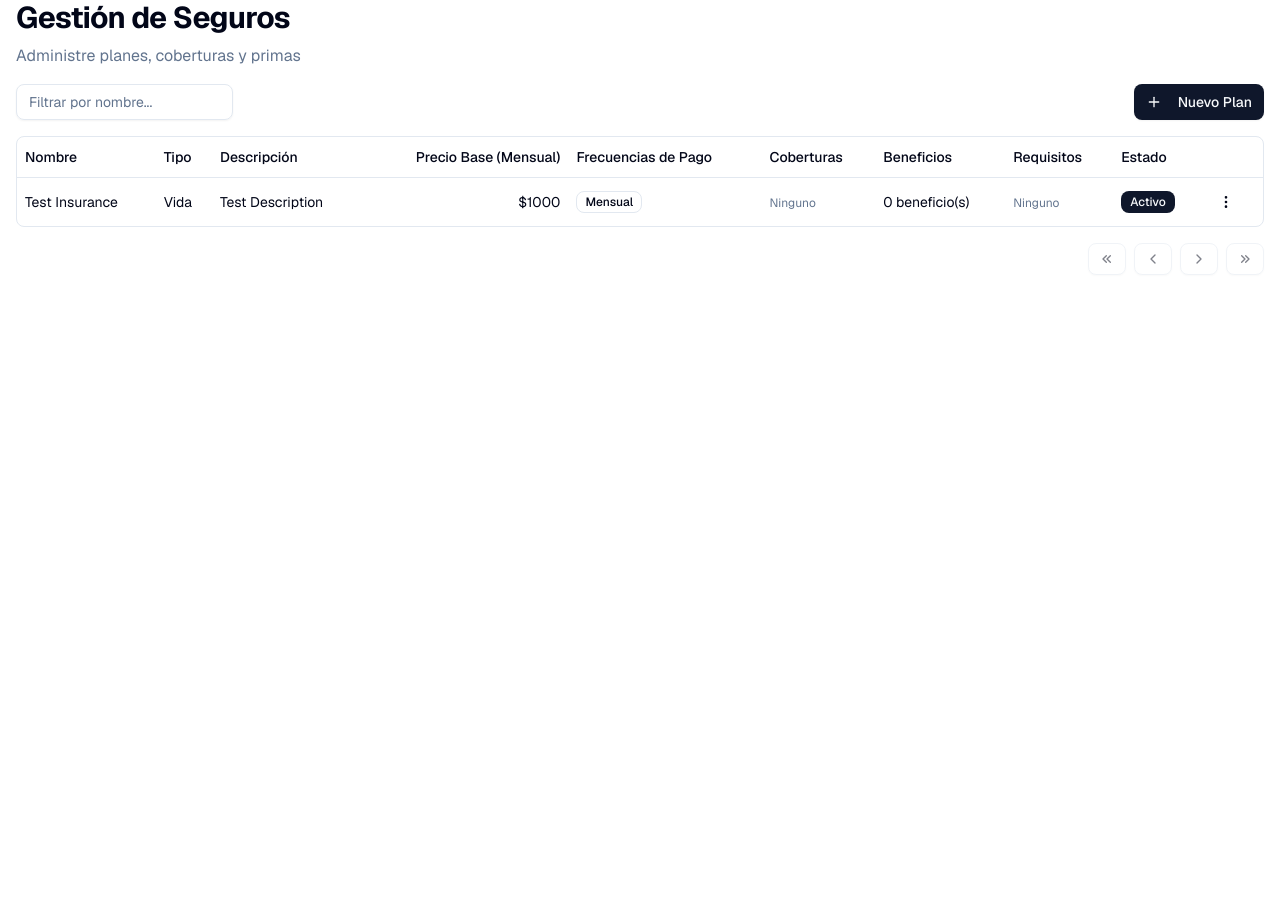
Test: Insurance Management Flow Integration Tests › Form Validation Tests › should validate price is a positive number
The image size is (1280, 900).
# Hacer clic en el botón de crear nuevo seguro
Click the button "Nuevo Plan". click: (1199, 102)
box: [1134,84,1264,120]
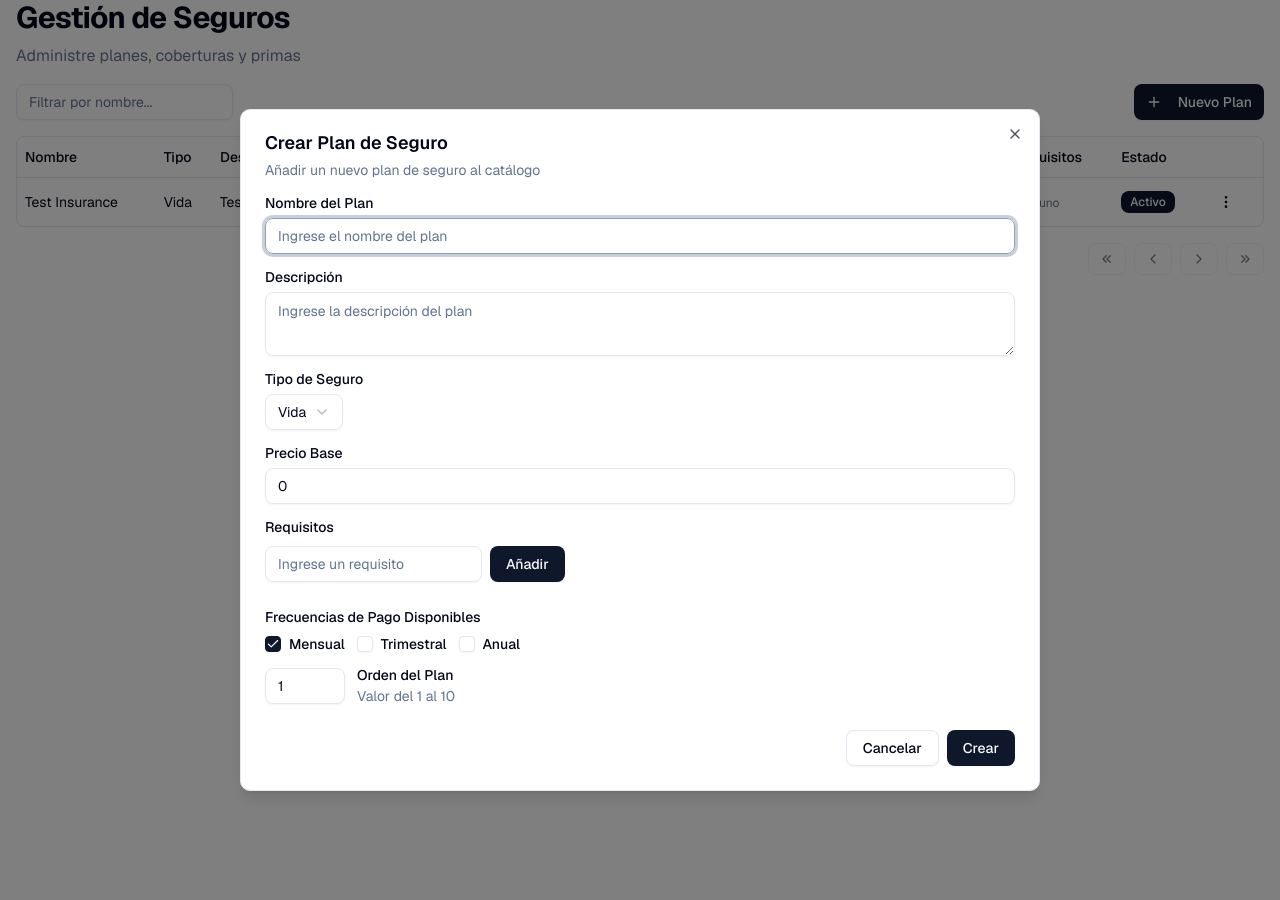
Result: the heading "Crear Plan de Seguro" is shown at [265,131,448,154]
Type "Test Insurance" into the field labelled "Nombre del Plan". click: (640, 236)
box: [265,218,1015,254]
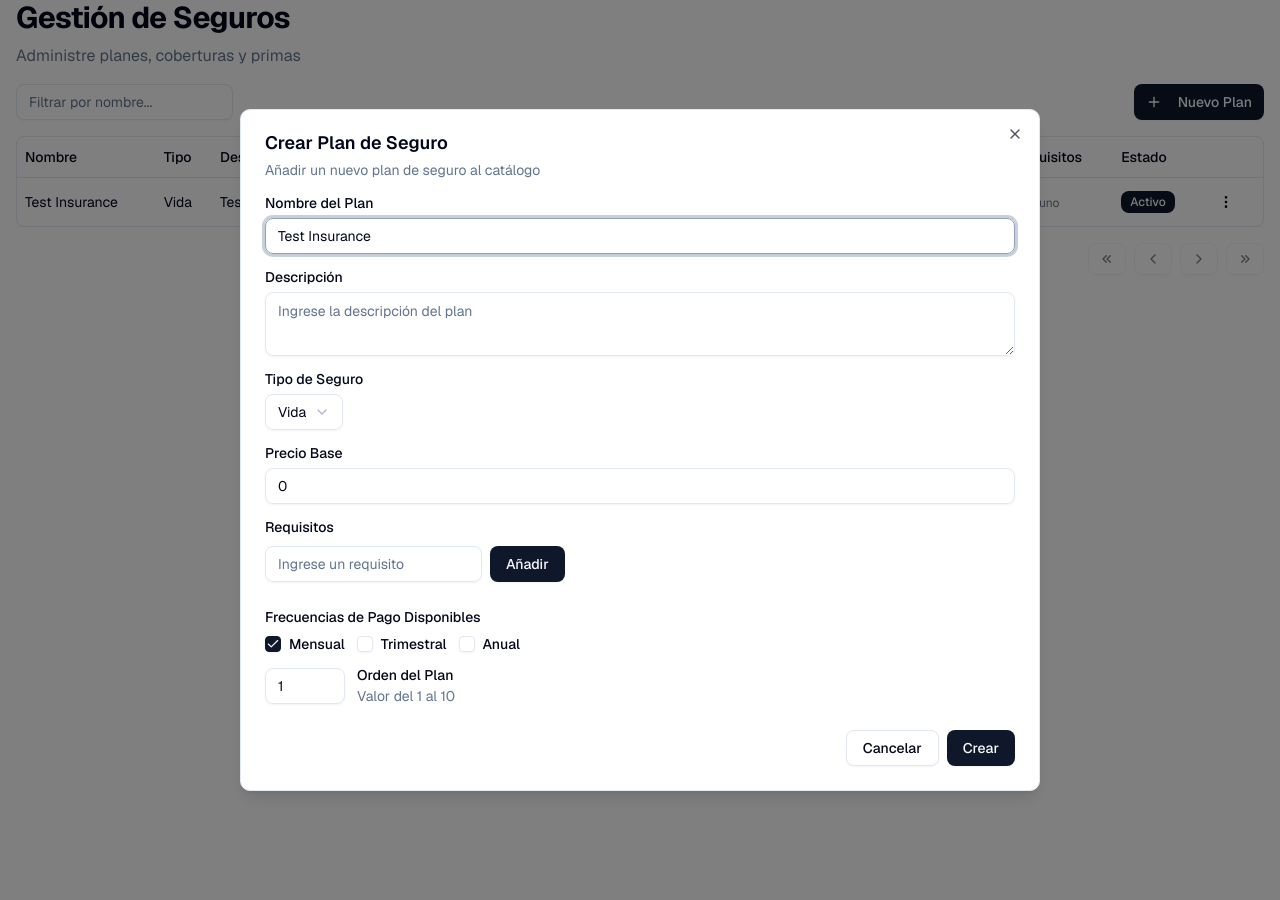
Type "Test Description" into the text box labelled "Descripción". click: (640, 324)
box: [265,292,1015,356]
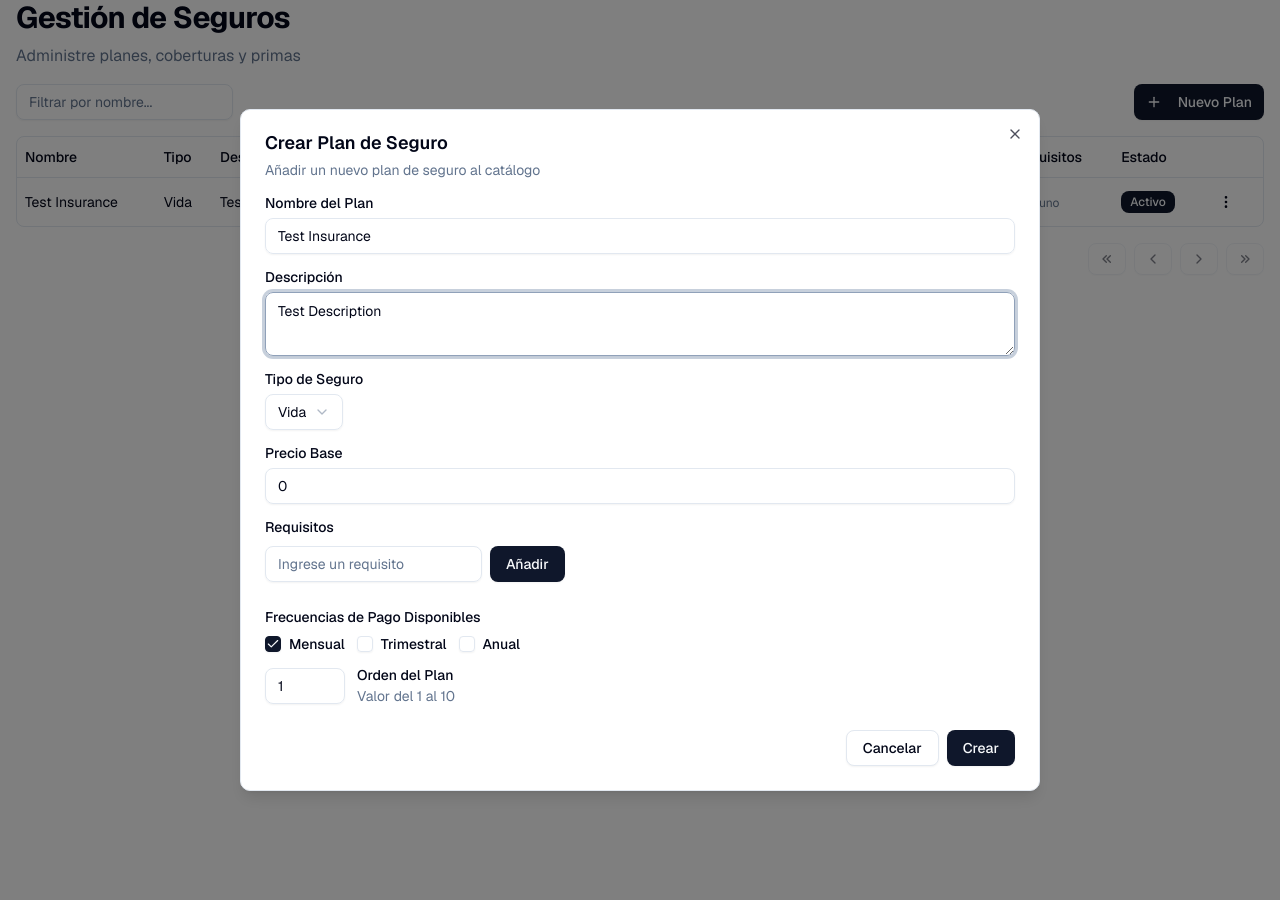
Type "-1000" into the number field labelled "Precio Base". click: (640, 486)
box: [265,468,1015,504]
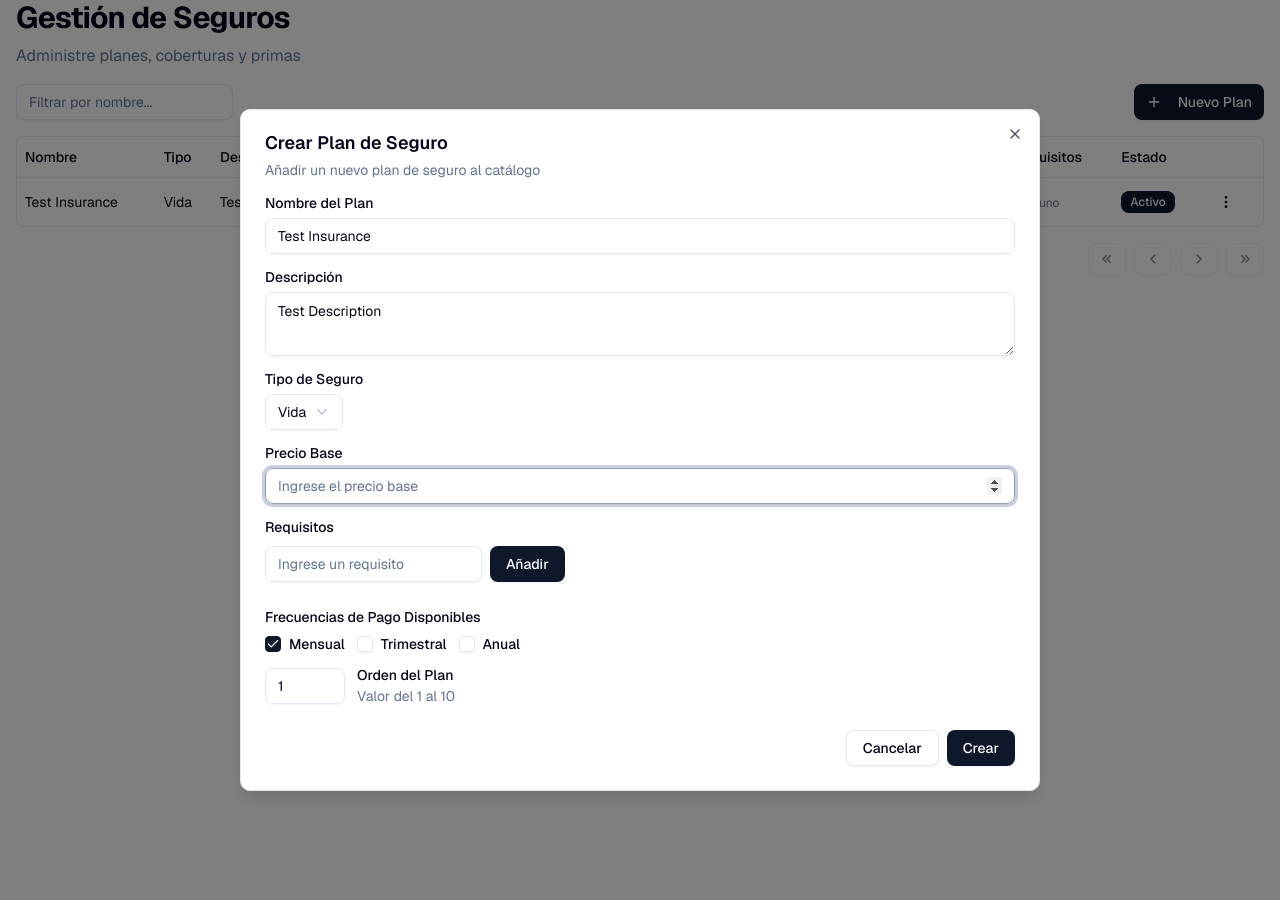
# Intentar enviar el formulario
Click the button "Crear". click: (981, 748)
box: [947,730,1015,766]
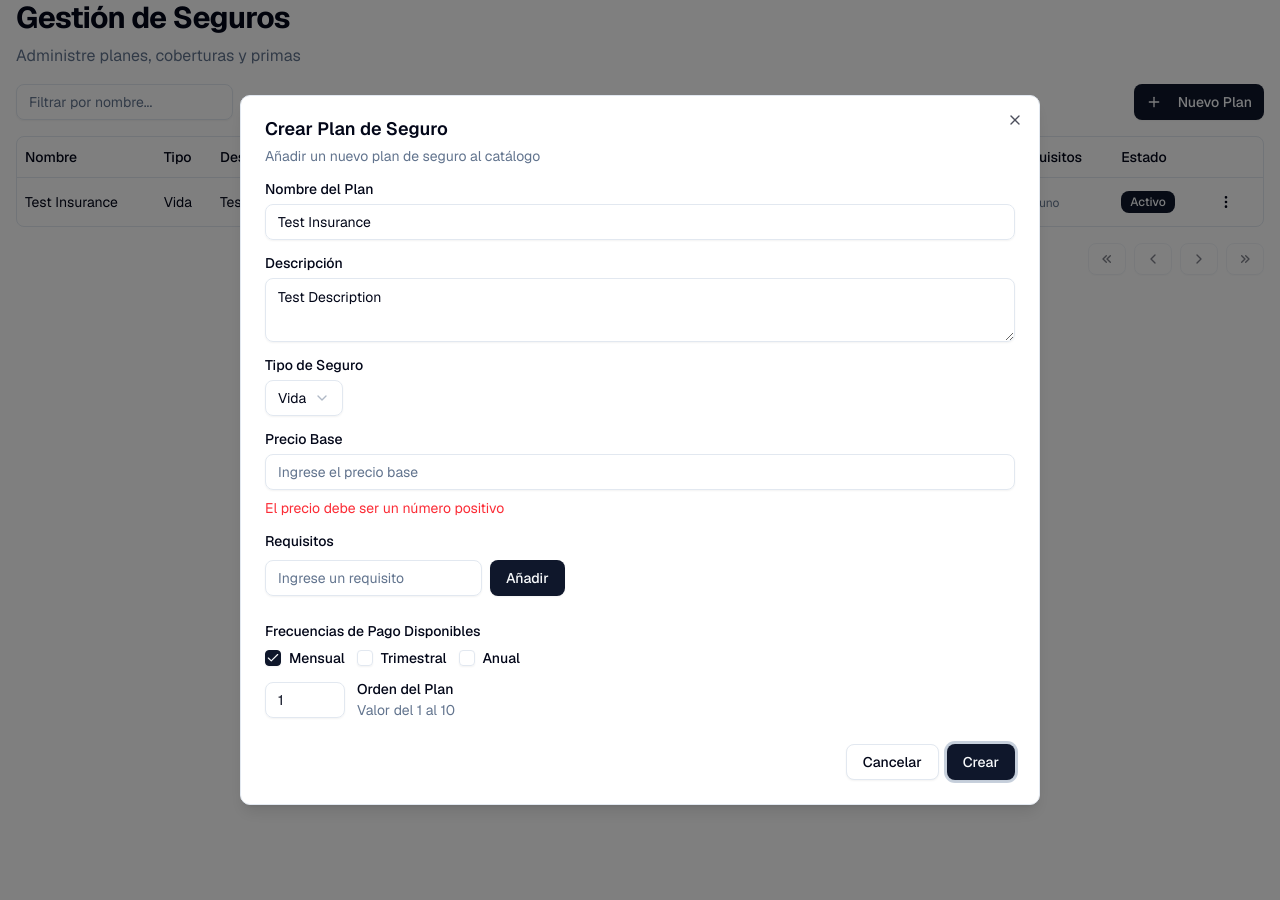
Result: the text "El precio debe ser un número positivo" is shown at [265,499,504,517]
